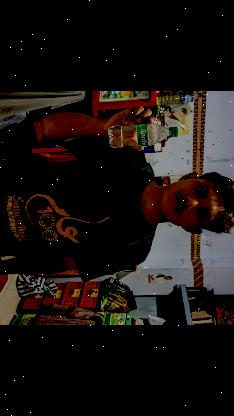Plastic Bottle: (102, 126, 178, 152), (148, 91, 200, 113)
